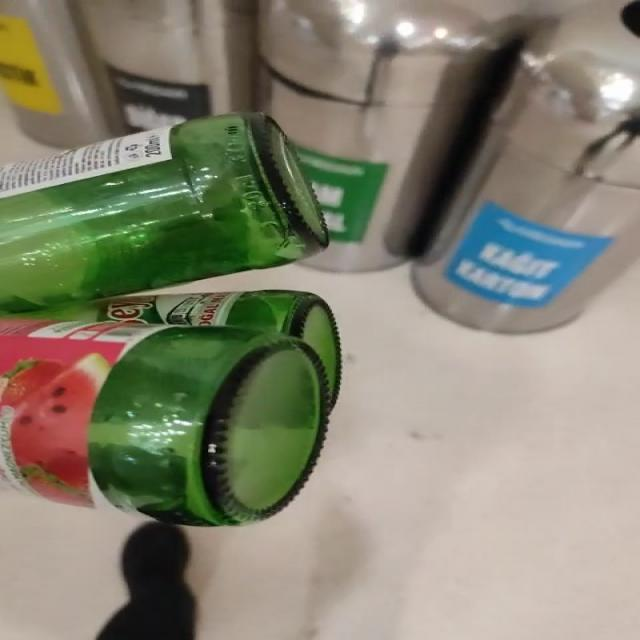glass: (0, 113, 341, 527)
